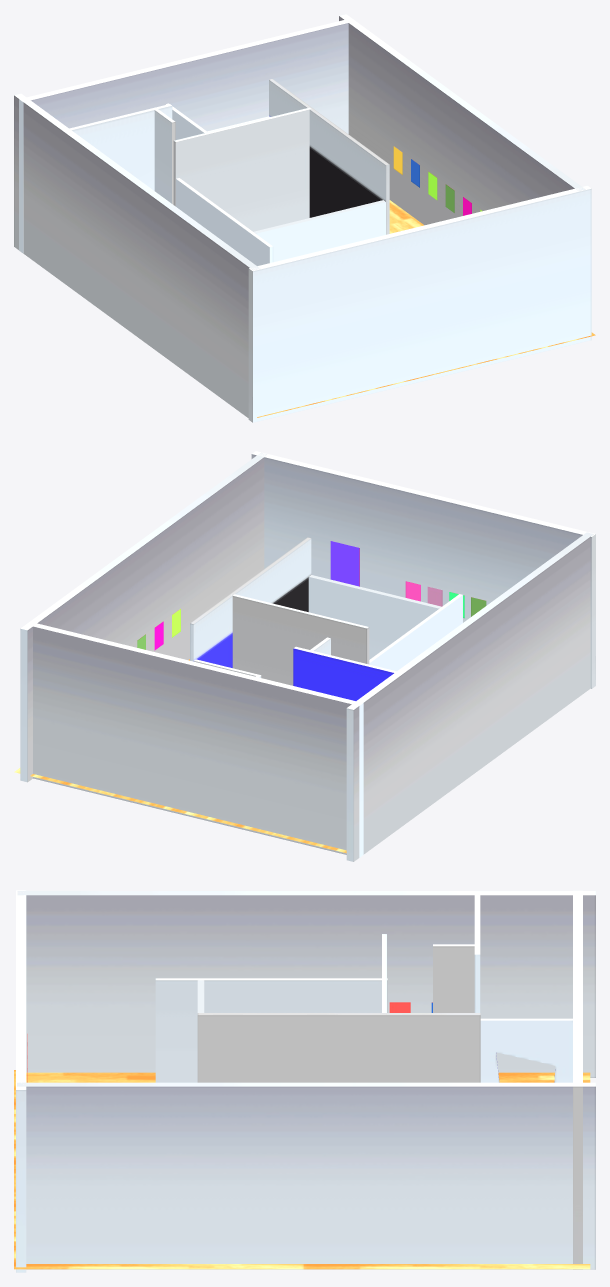
The model's file is MarkGallery05.glb.
3 renders of one model, top to bottom at view 1: azimuth 30°, elevation 25°; view 2: azimuth 150°, elevation 25°; view 3: azimuth 270°, elevation 25°, orthographic. The views are drawn at different scales.
Parts seen in each view (by area): view 1: Plane; view 2: Plane; view 3: Plane.
Part boxes in pixels (x1=…): Plane: x1=14, y1=14, x2=595, y2=422; Plane: x1=14, y1=451, x2=595, y2=861; Plane: x1=14, y1=890, x2=595, y2=1272.
Bounding box in the file's own units: 0.9461 × 0.4255 × 1.15.
Materials: 1 (1 with a texture image).
